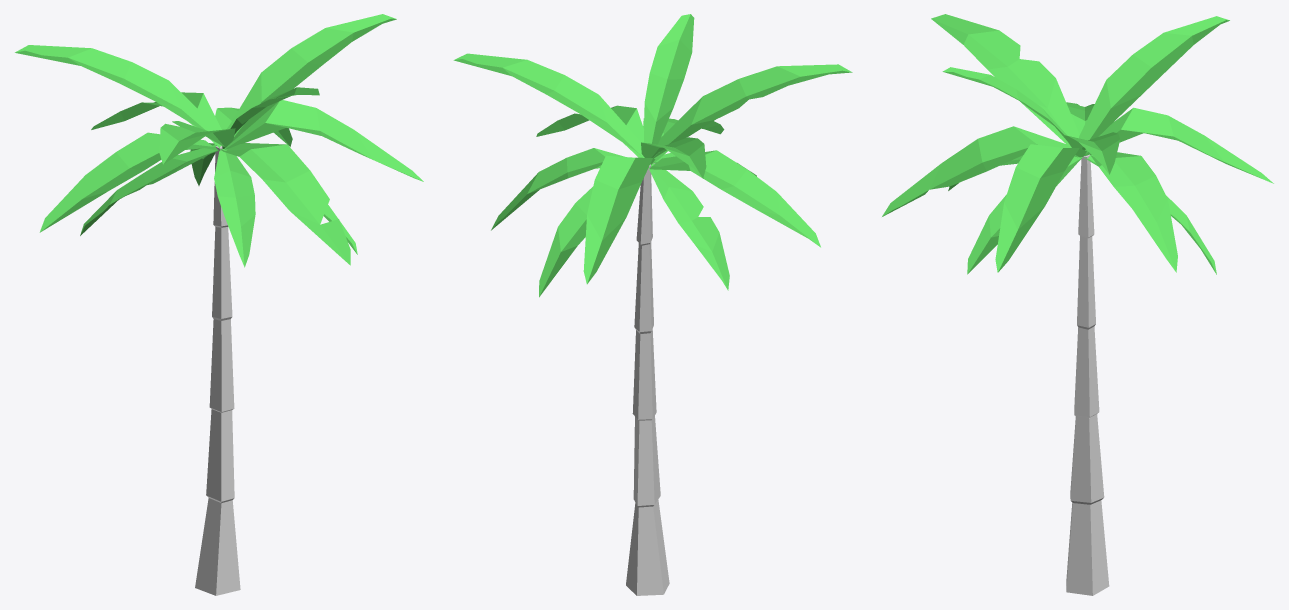
The model's file is Mesh_PalmTree.fbx.
The picture shows the model from 3 angles, left to right: view 1: azimuth 30°, elevation 25°; view 2: azimuth 150°, elevation 25°; view 3: azimuth 270°, elevation 25°; orthographic projection. The views are drawn at different scales.
Parts seen in each view (by area): view 1: Mesh_PalmTree_LOD0; view 2: Mesh_PalmTree_LOD0; view 3: Mesh_PalmTree_LOD0.
Part boxes in pixels (box(x1,y1,x2,y2)): Mesh_PalmTree_LOD0: box(15, 14, 423, 595); Mesh_PalmTree_LOD0: box(453, 14, 852, 595); Mesh_PalmTree_LOD0: box(882, 14, 1273, 595).
Size of what is drawn, in the model's own units: 8.72 by 12.11 by 8.14.
